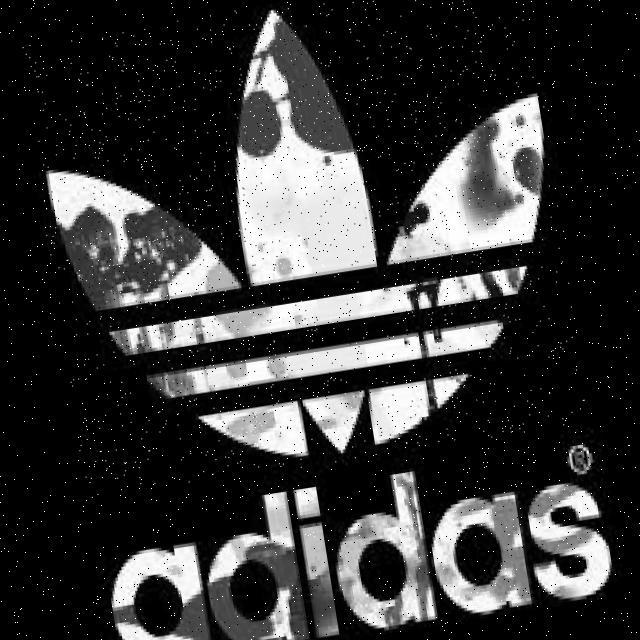Adidas: (15, 0, 594, 503)
